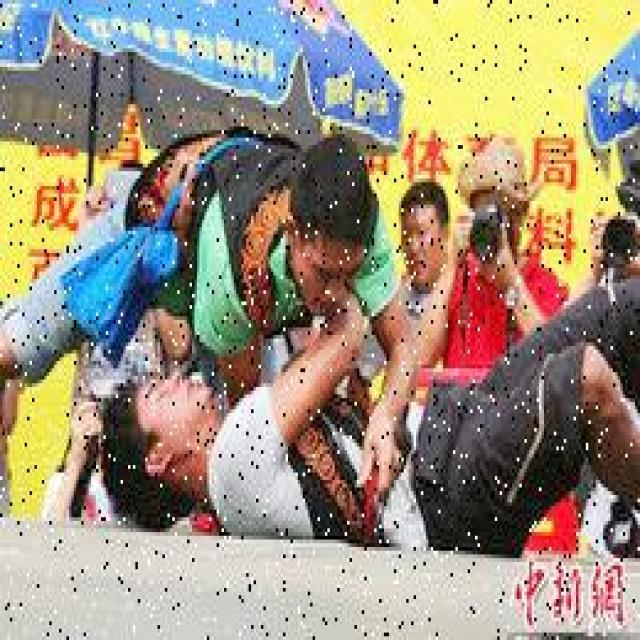fall: (98, 328, 622, 532)
